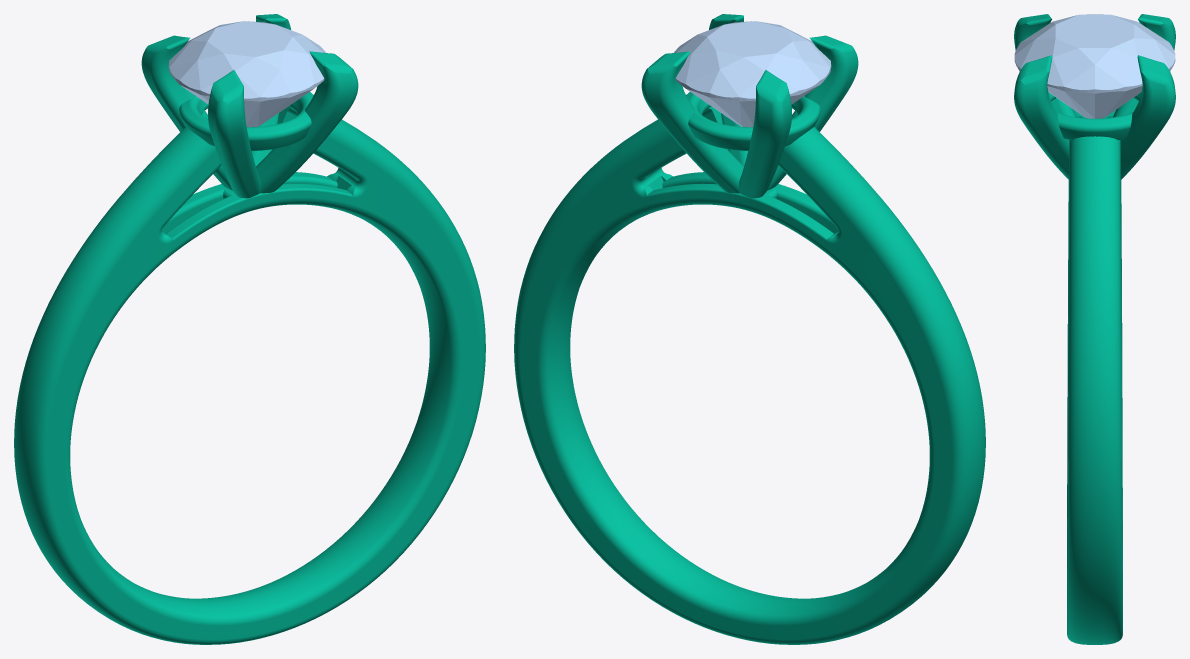
The picture shows the model from 3 angles, left to right: view 1: azimuth 30°, elevation 25°; view 2: azimuth 150°, elevation 25°; view 3: azimuth 270°, elevation 25°; orthographic projection.
Visible parts, largest first — view 1: VSR-1002(front).3dm, Diamond_Round; view 2: VSR-1002(front).3dm, Diamond_Round; view 3: VSR-1002(front).3dm, Diamond_Round.
Boxes of the visible parts, <box> form: VSR-1002(front).3dm: <box>14,14,485,644</box>; Diamond_Round: <box>168,21,325,127</box>; VSR-1002(front).3dm: <box>514,14,985,644</box>; Diamond_Round: <box>674,21,831,127</box>; VSR-1002(front).3dm: <box>1014,14,1175,644</box>; Diamond_Round: <box>1014,14,1175,118</box>.
Bounding box in the file's own units: 2.47 × 3.05 × 0.7614.
